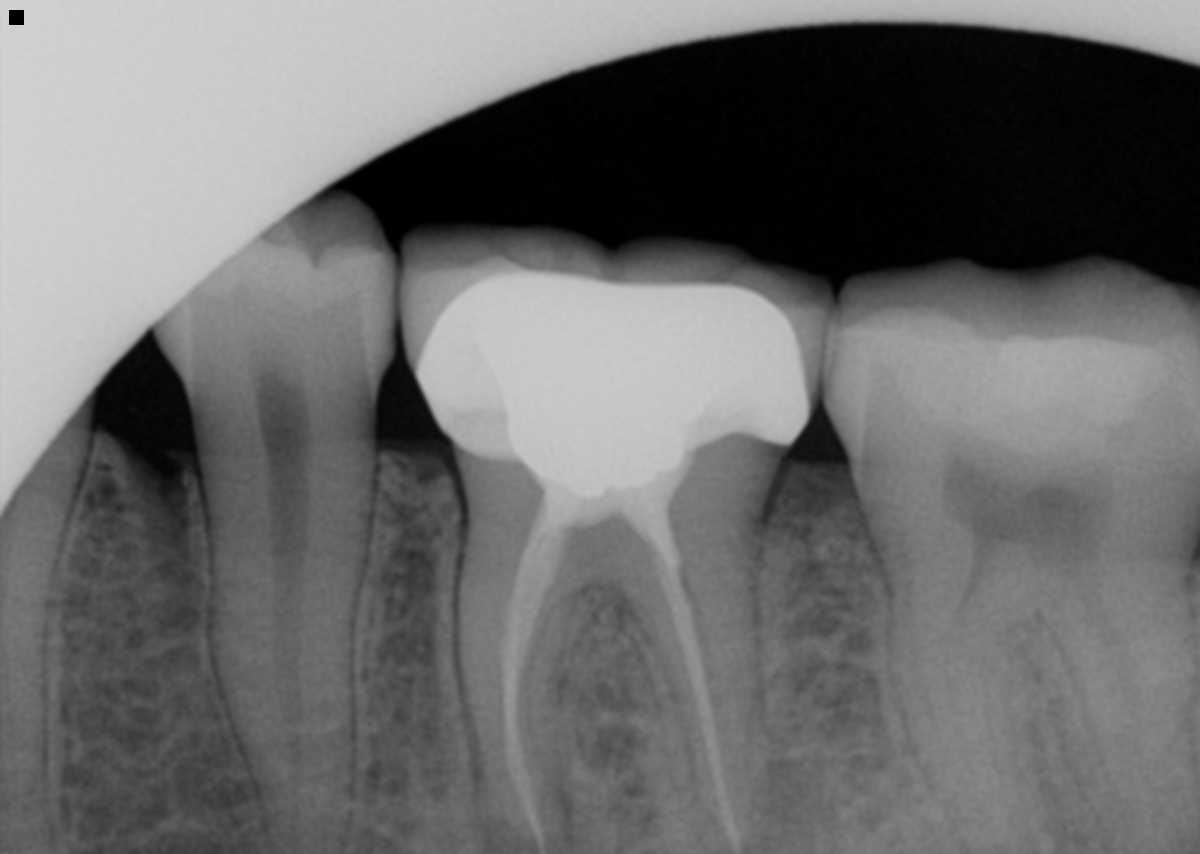Distal Canal: (1041, 497, 1153, 825)
Distal Root: (612, 456, 785, 850), (1028, 475, 1200, 854)
Main Canal: (267, 465, 311, 854)
Main Root: (199, 450, 383, 854), (0, 477, 75, 854)
Mesial Canal: (937, 510, 1016, 655)
Mesial Root: (845, 472, 1056, 854), (451, 460, 602, 854)
Root Canal Filling: (614, 478, 741, 849), (498, 488, 600, 852)
